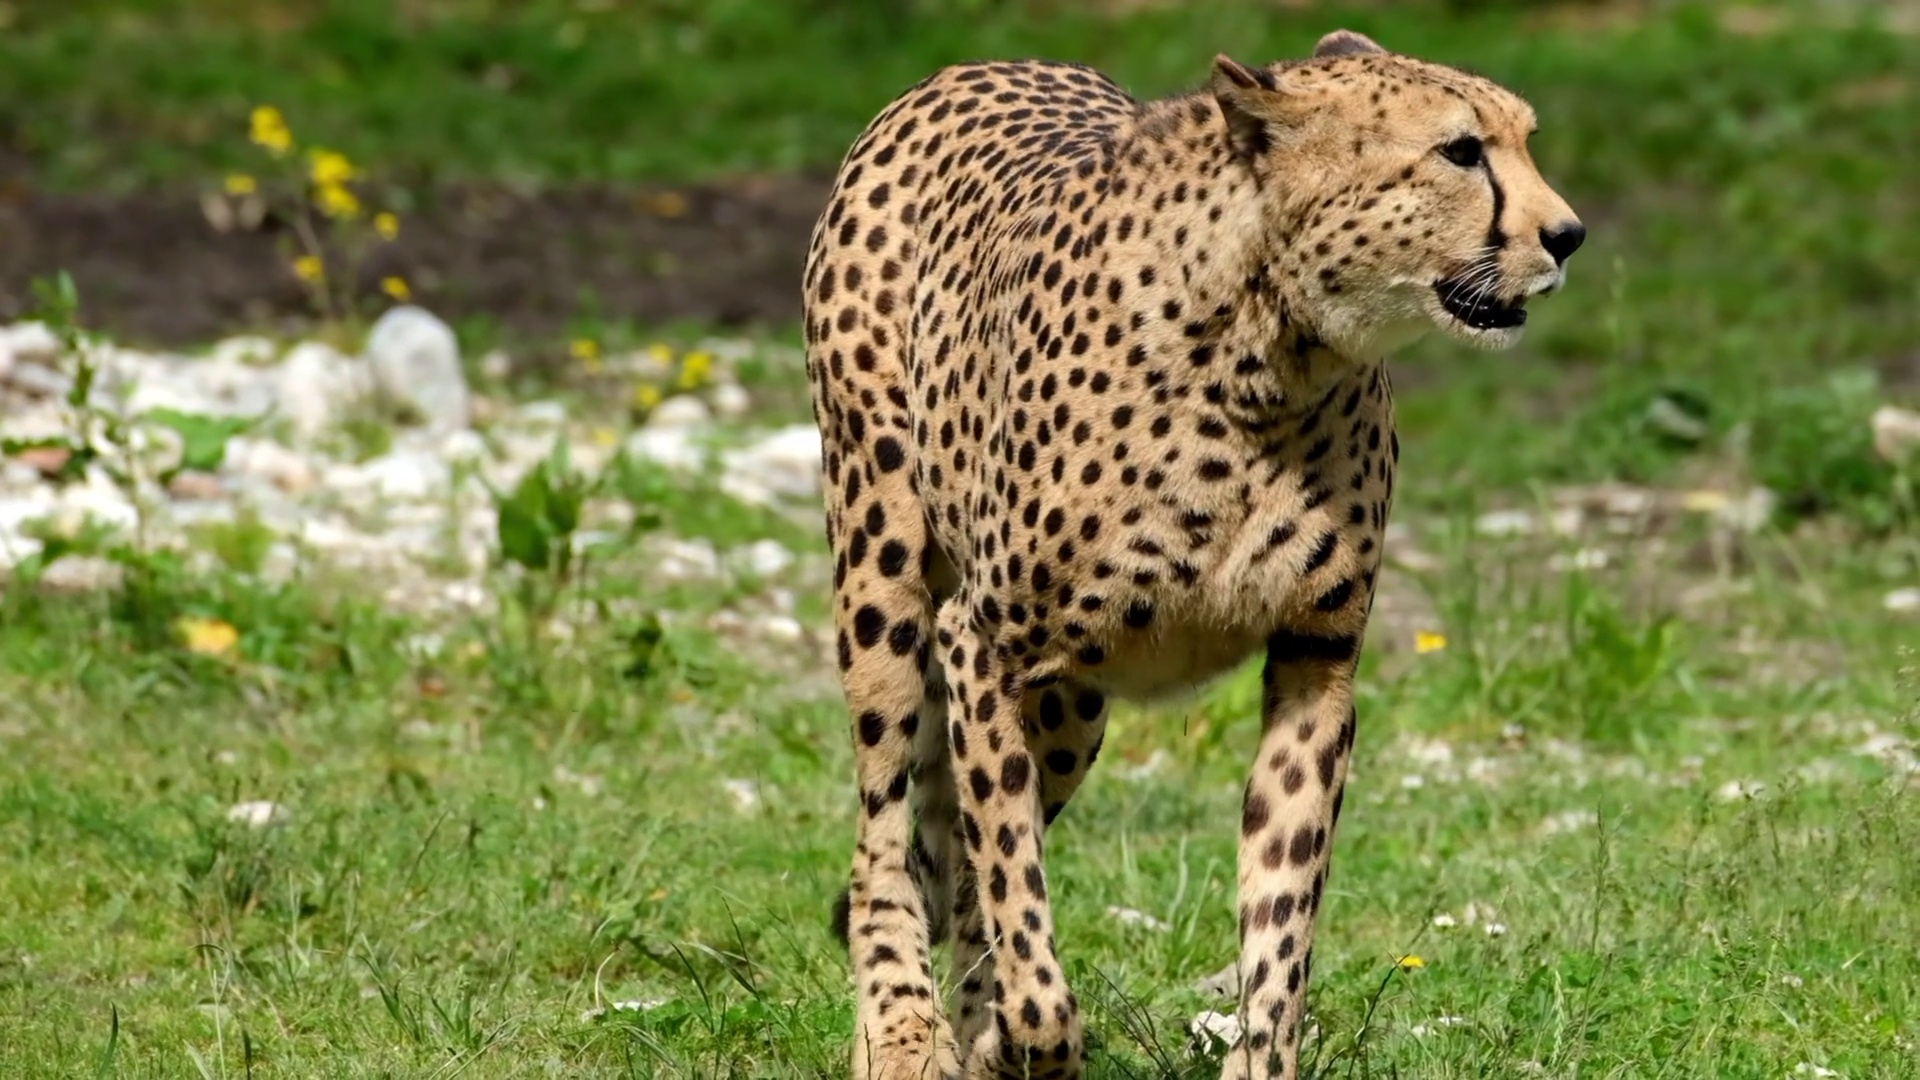Cheetah: (793, 28, 1594, 1080)
